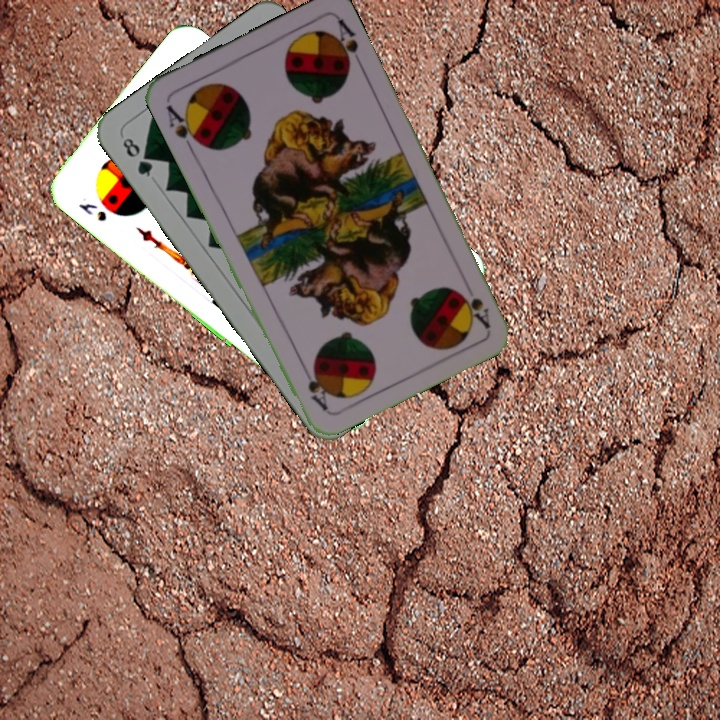G8: (118, 134, 156, 180)
SA: (162, 101, 205, 154), (455, 286, 493, 331)
SK: (74, 193, 110, 224)
